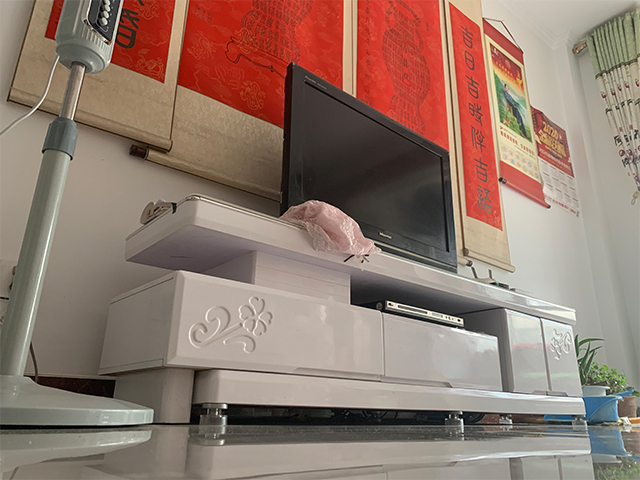curtain: (97, 193, 589, 427)
